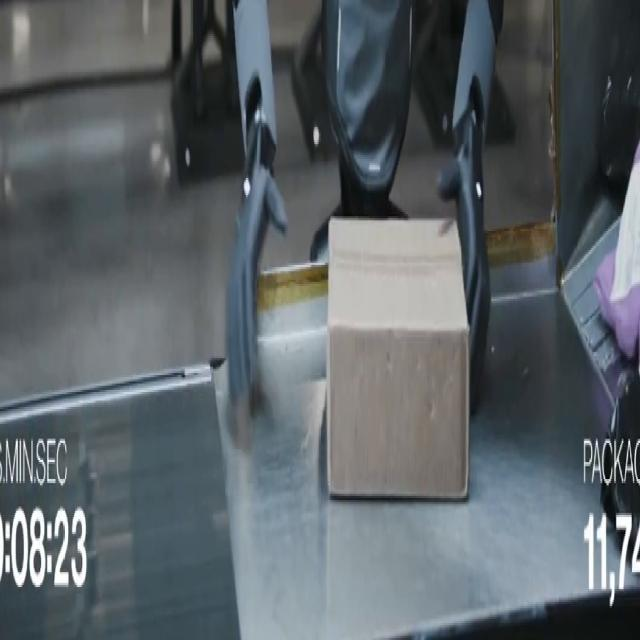package: (327, 219, 469, 500), (595, 145, 639, 360), (599, 373, 639, 540)
